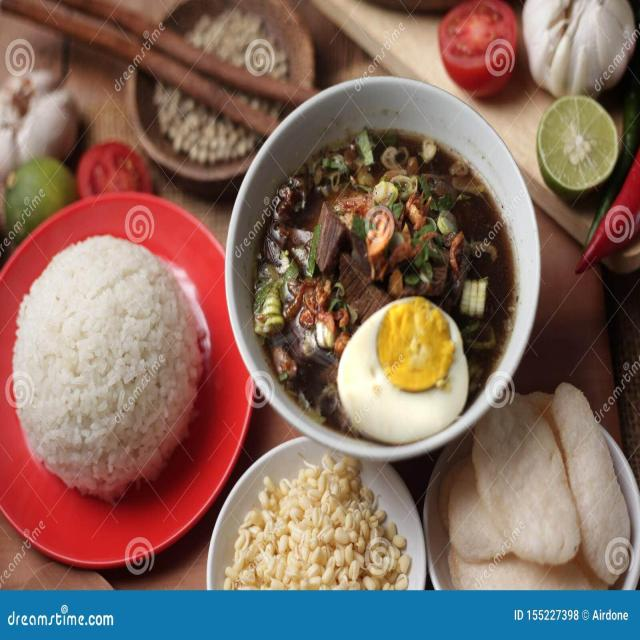Rawon: (241, 114, 516, 445)
